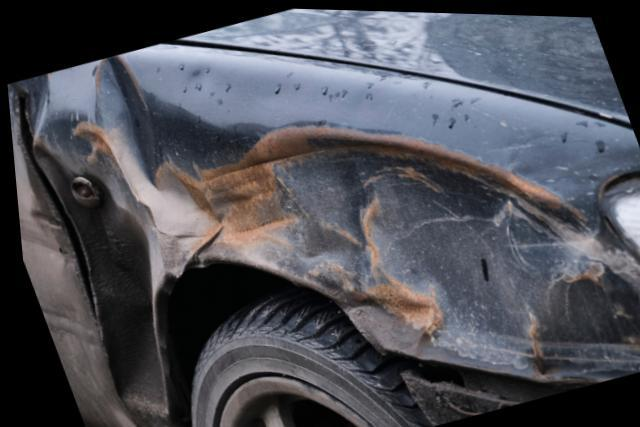dent: (26, 55, 640, 417)
